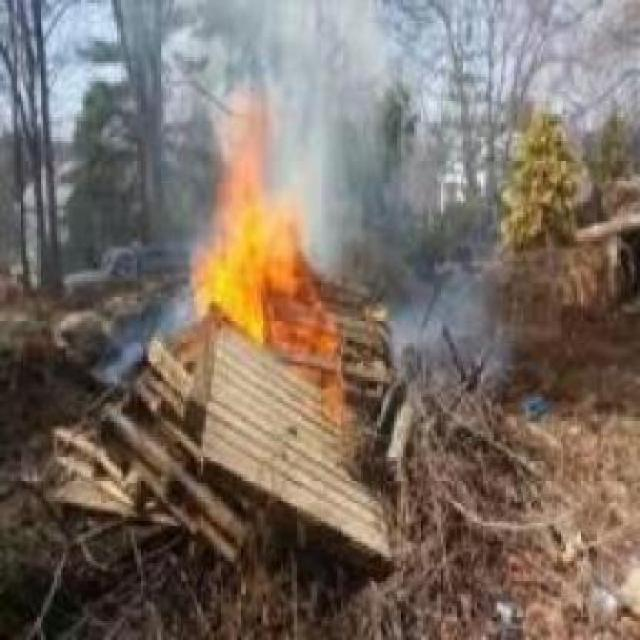fire: (191, 139, 316, 325)
